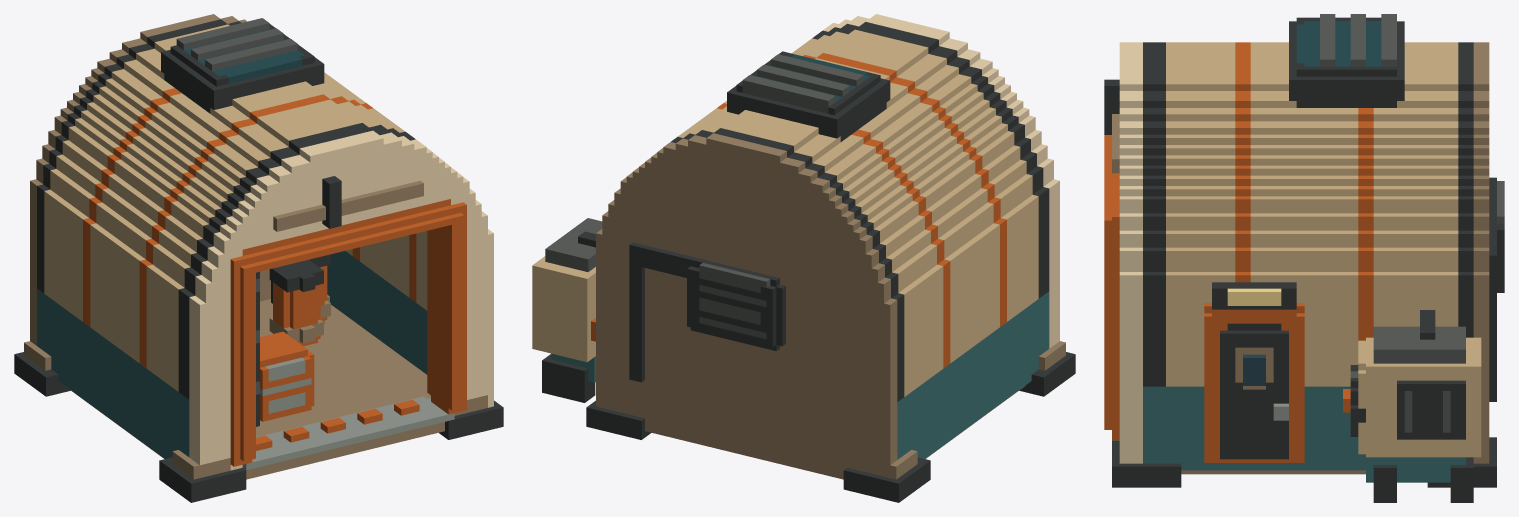
The model's file is repair_garage.glb.
3 views of the same model, side by side, from view 1: azimuth 30°, elevation 25°; view 2: azimuth 150°, elevation 25°; view 3: azimuth 270°, elevation 25° (orthographic). The views are drawn at different scales.
Visible parts, largest first — view 1: repair_garage; view 2: repair_garage; view 3: repair_garage.
Boxes of the visible parts, left/top/right/bottom form: repair_garage: left=14, top=14, right=503, bottom=502; repair_garage: left=532, top=14, right=1075, bottom=502; repair_garage: left=1104, top=14, right=1504, bottom=502.
Bounding box in the file's own units: 8.06 × 6.89 × 6.76.
